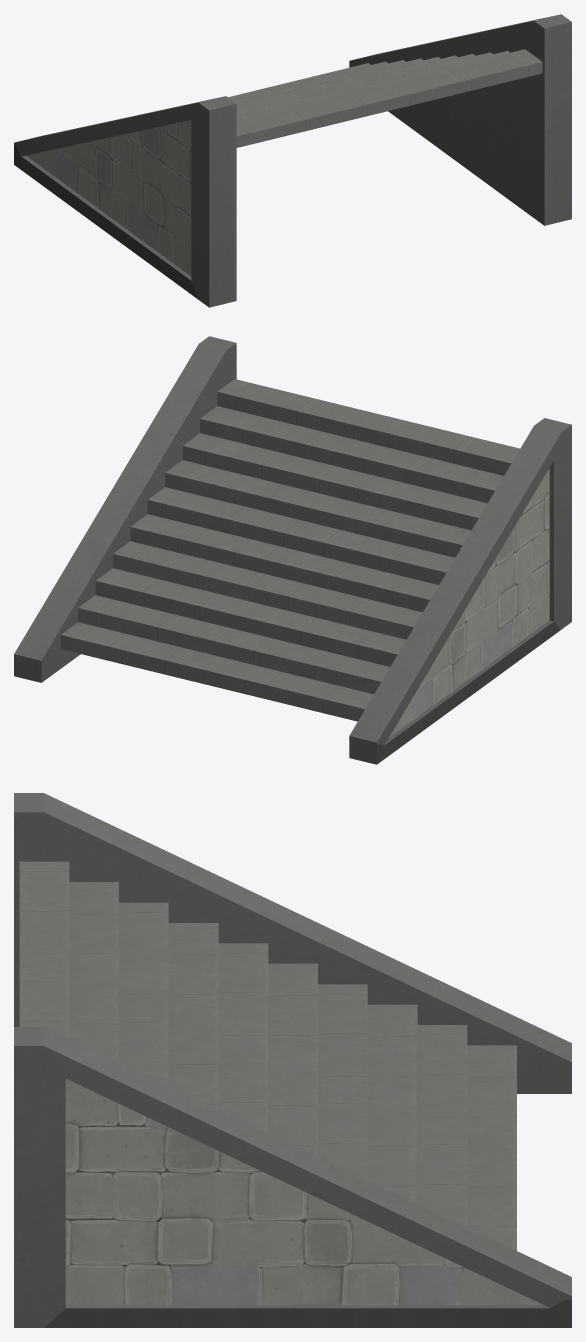
File: BilldingStair_E.fbx
The picture shows the model from 3 angles, top to bottom: view 1: azimuth 30°, elevation 25°; view 2: azimuth 150°, elevation 25°; view 3: azimuth 270°, elevation 25°; orthographic projection. The views are drawn at different scales.
Parts seen in each view (by area): view 1: BilldingStair_E; view 2: BilldingStair_E; view 3: BilldingStair_E.
Part boxes in pixels (x1,y1,x2,y2): BilldingStair_E: (14, 14, 571, 307); BilldingStair_E: (14, 336, 571, 764); BilldingStair_E: (14, 793, 571, 1327).
Size of the model in its own units: 691 by 359 by 644.
3 materials, 3 textured.
